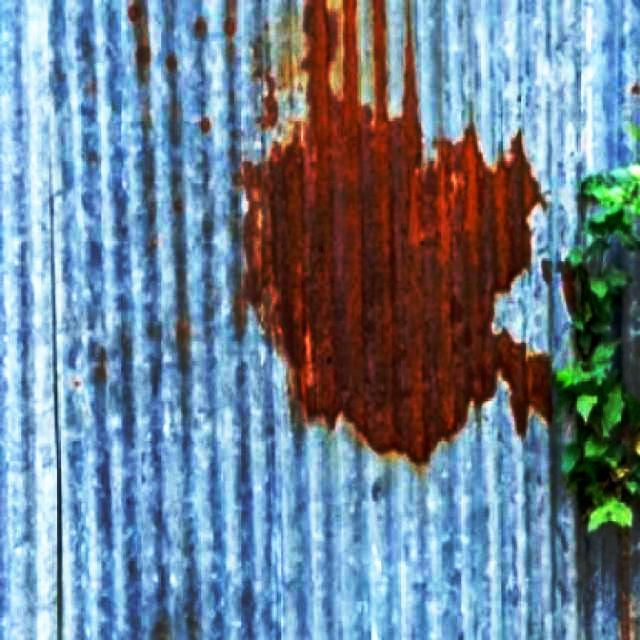Corrosion: (244, 0, 552, 463)
